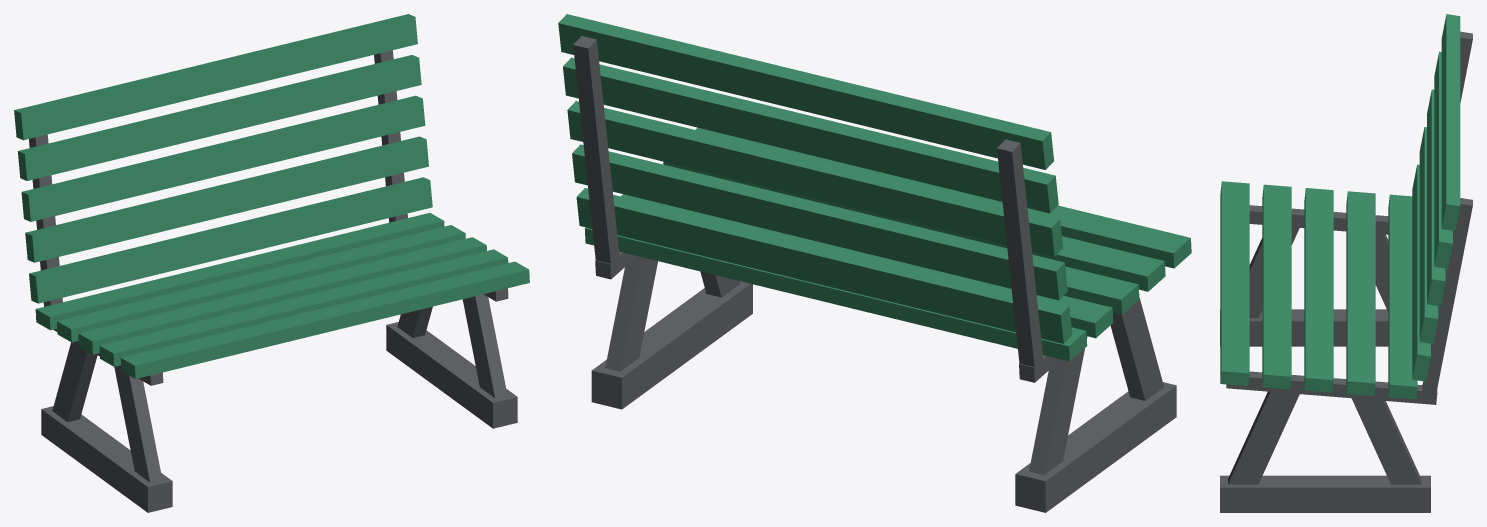
File: Bench.glb
The picture shows the model from 3 angles, left to right: view 1: azimuth 30°, elevation 25°; view 2: azimuth 150°, elevation 25°; view 3: azimuth 270°, elevation 25°; orthographic projection. The views are drawn at different scales.
Parts seen in each view (by area): view 1: Mesh_Mesh_head_geo.001_lambert2SG.001; view 2: Mesh_Mesh_head_geo.001_lambert2SG.001; view 3: Mesh_Mesh_head_geo.001_lambert2SG.001.
Part boxes in pixels (<box>): Mesh_Mesh_head_geo.001_lambert2SG.001: <box>14,14,529,512</box>; Mesh_Mesh_head_geo.001_lambert2SG.001: <box>558,14,1191,512</box>; Mesh_Mesh_head_geo.001_lambert2SG.001: <box>1220,14,1472,512</box>.
Size of the model in its own units: 64 by 49.46 by 35.99.
